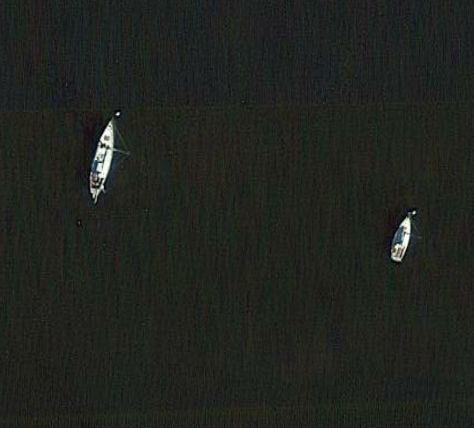boat: (81, 114, 122, 206), (386, 209, 417, 266)
